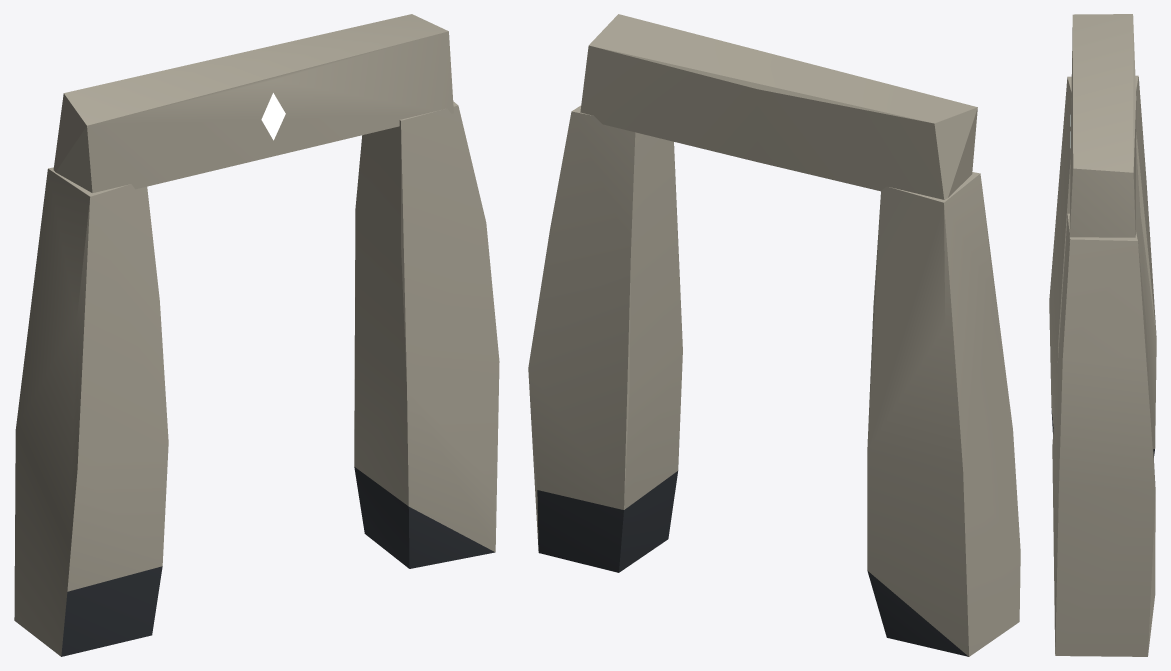
Rendered from SoulGate.fbx.
The picture shows the model from 3 angles, left to right: view 1: azimuth 30°, elevation 25°; view 2: azimuth 150°, elevation 25°; view 3: azimuth 270°, elevation 25°; orthographic projection. The views are drawn at different scales.
Parts seen in each view (by area): view 1: SoulGate; view 2: SoulGate; view 3: SoulGate.
Boxes of the visible parts, <box> form: SoulGate: <box>14,14,499,656</box>; SoulGate: <box>528,14,1020,656</box>; SoulGate: <box>1049,14,1156,656</box>.
Size of the model in its own units: 2.89 by 3.27 by 0.6756.
